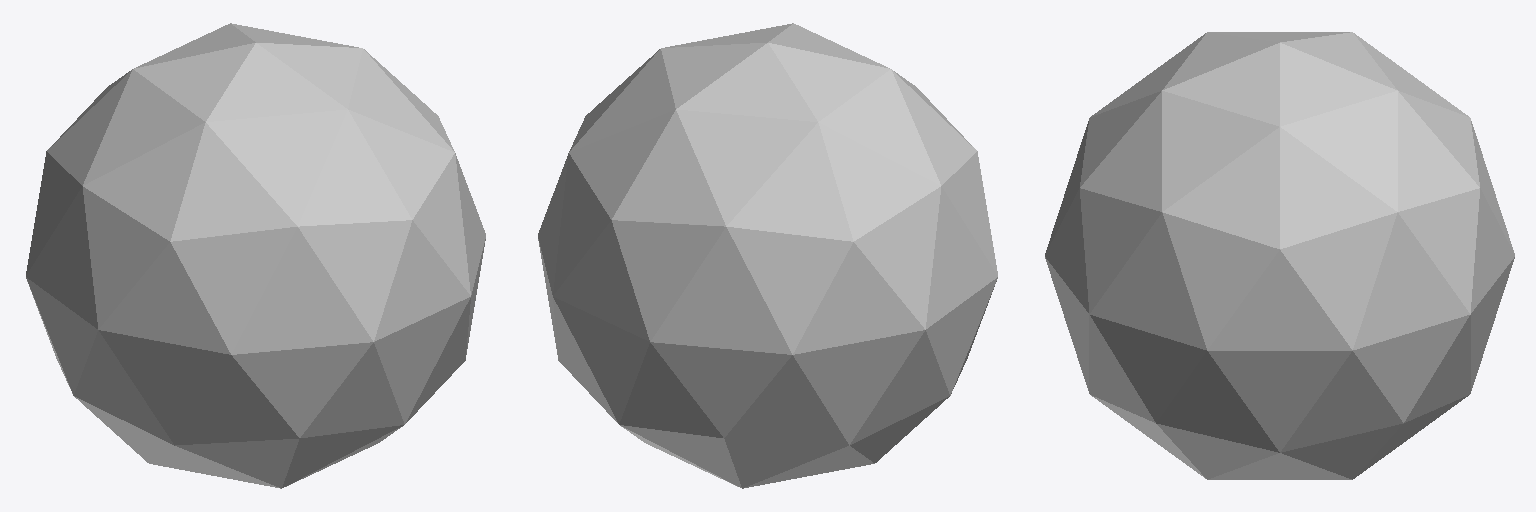
The model's file is geosphere_low.obj.
The picture shows the model from 3 angles: view 1: azimuth 30°, elevation 25°; view 2: azimuth 150°, elevation 25°; view 3: azimuth 270°, elevation 25°; orthographic projection.
Visible parts, largest first — view 1: GeoSphere001; view 2: GeoSphere001; view 3: GeoSphere001.
Boxes of the visible parts, box(x1,y1,x2,y2) form: GeoSphere001: box(26, 23, 485, 488); GeoSphere001: box(538, 23, 997, 488); GeoSphere001: box(1045, 32, 1514, 479).
Size of the model in its own units: 1.9 by 2 by 2.